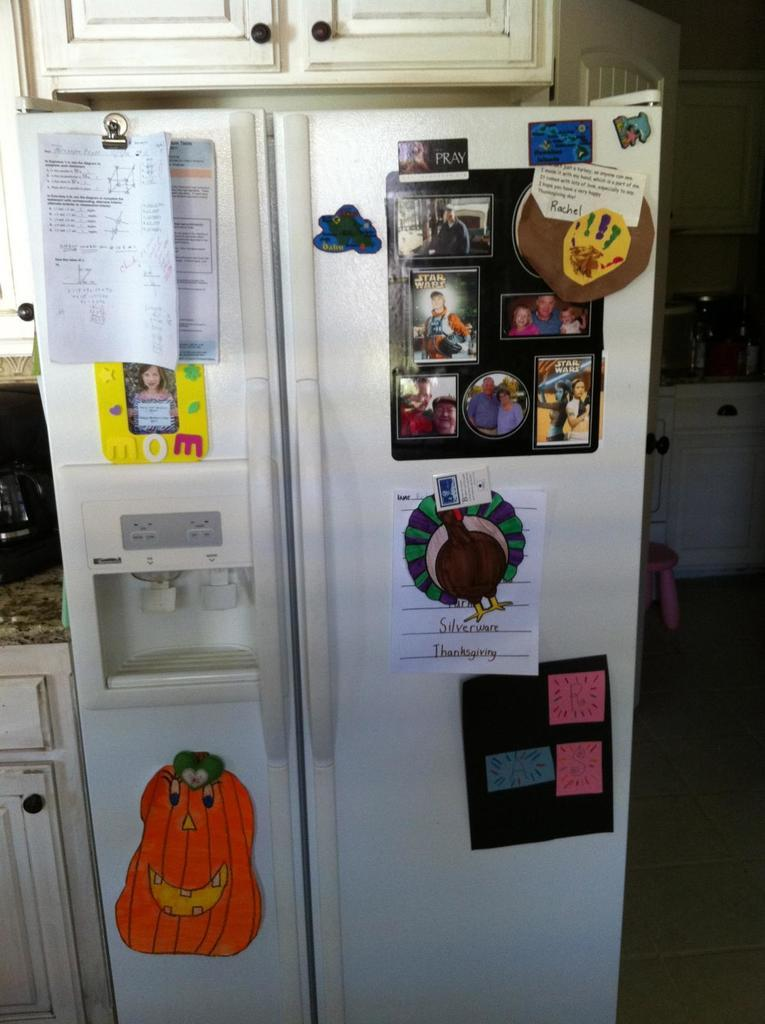cabinet_door: (4, 775, 68, 1024), (60, 3, 262, 61), (309, 16, 523, 52)
handle: (295, 376, 337, 760), (240, 386, 288, 710), (307, 10, 335, 54), (14, 782, 46, 819), (252, 10, 276, 56), (14, 297, 37, 334)
